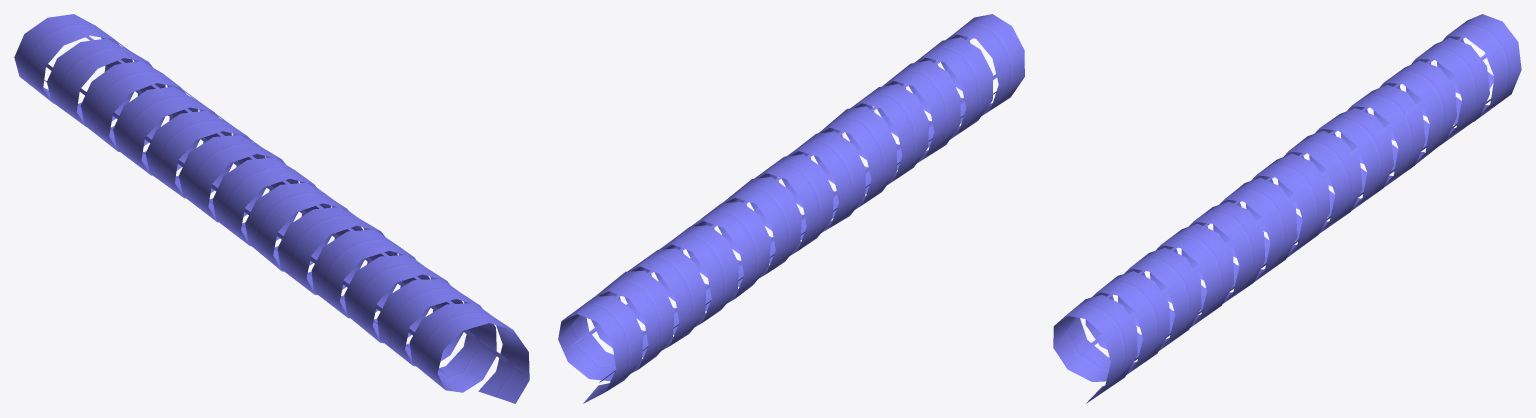
Rendered from BarbedWireFence_10m.FBX.
The picture shows the model from 3 angles, left to right: view 1: azimuth 30°, elevation 25°; view 2: azimuth 150°, elevation 25°; view 3: azimuth 330°, elevation 25°; orthographic projection. The views are drawn at different scales.
Visible parts, largest first — view 1: BarbedWireFence_10m; view 2: BarbedWireFence_10m; view 3: BarbedWireFence_10m.
Boxes of the visible parts, x1,y1,x2,y2 form: BarbedWireFence_10m: [14, 14, 529, 403]; BarbedWireFence_10m: [558, 14, 1024, 403]; BarbedWireFence_10m: [1053, 14, 1521, 403].
Size of the model in its own units: 103 by 104 by 1031.
